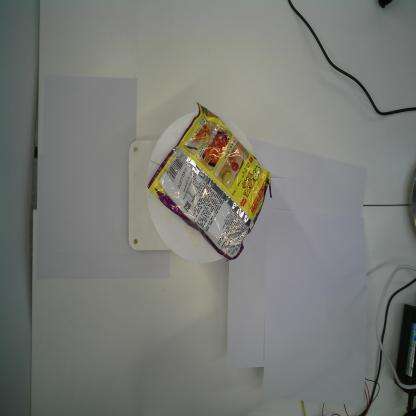Instant Noodles: (146, 102, 273, 262)
